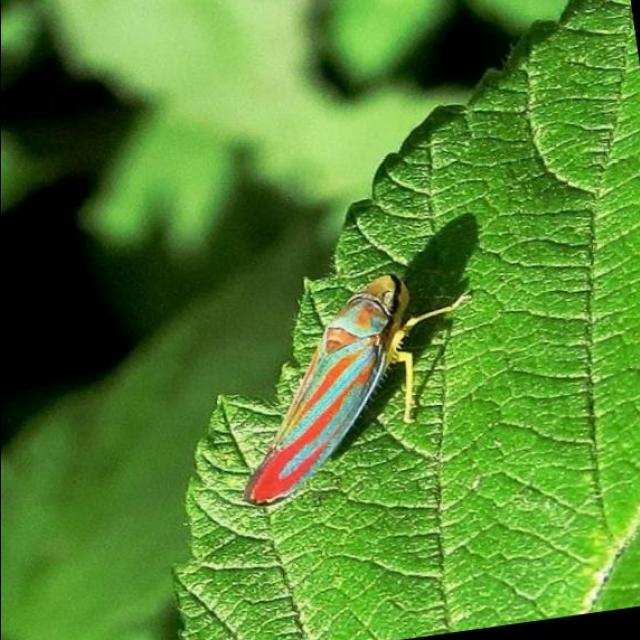green leaf hopper: (243, 275, 464, 506)
